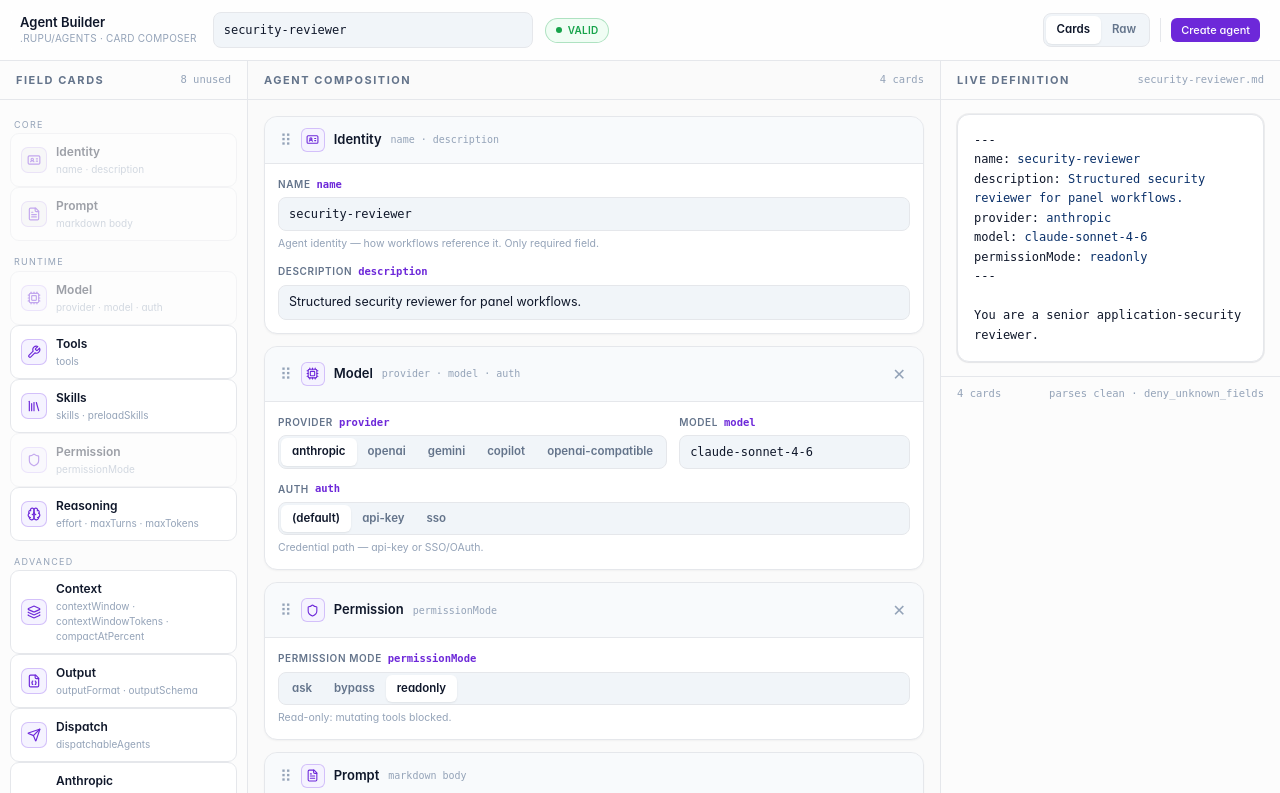
AgentBuilder › removing the Model card sticks — no snap-back, config cleared from the preview
Expected: the element with test id "ab-yaml" shows "provider:", [974,210,1039,224]
Expected: the element with test id "ab-yaml" shows "model:", [974,230,1017,244]
Click the button named "remove Model card" at (899, 374), box [889,358,910,390]
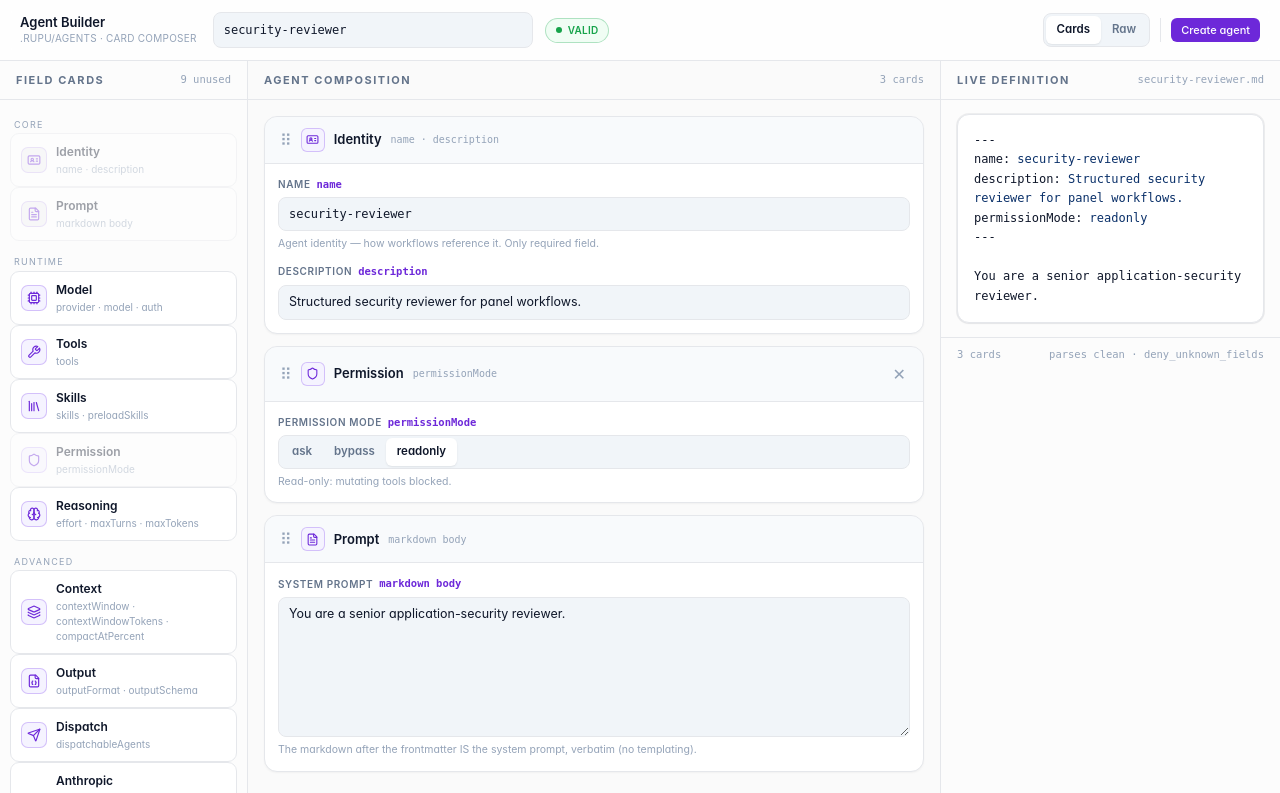
Expected: the element with test id "ab-yaml" no longer shows "model:", [941,100,1279,337]
Expected: the element with test id "ab-yaml" no longer shows "provider:", [941,100,1279,337]
